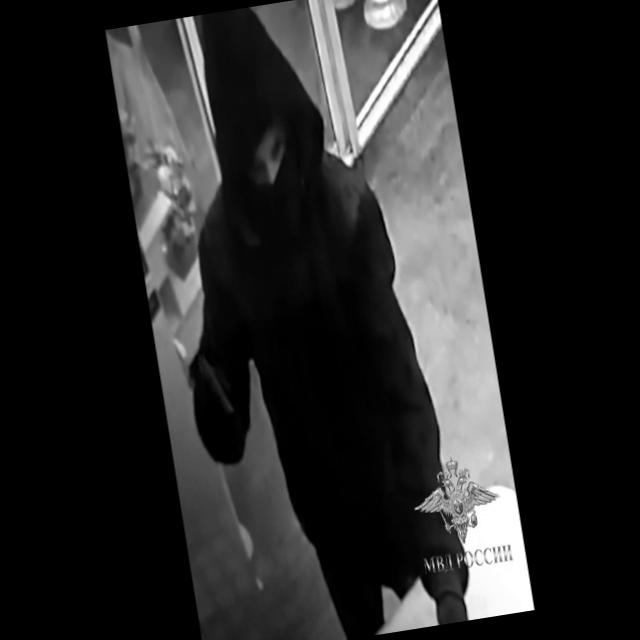gun: (198, 347, 245, 454)
person with a gun: (134, 0, 470, 640)
